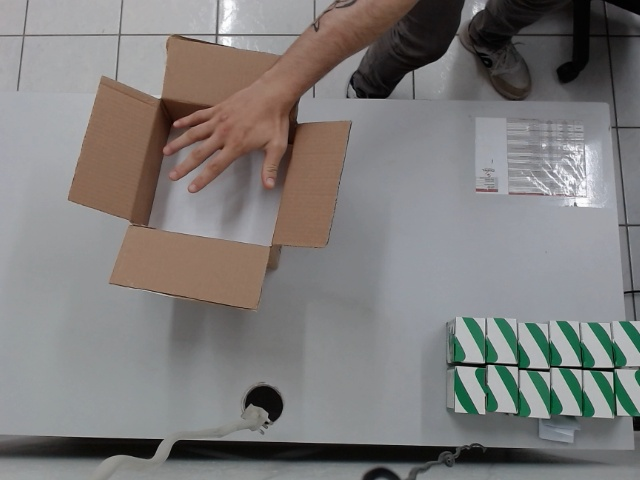caixa_principal: (59, 31, 357, 315)
